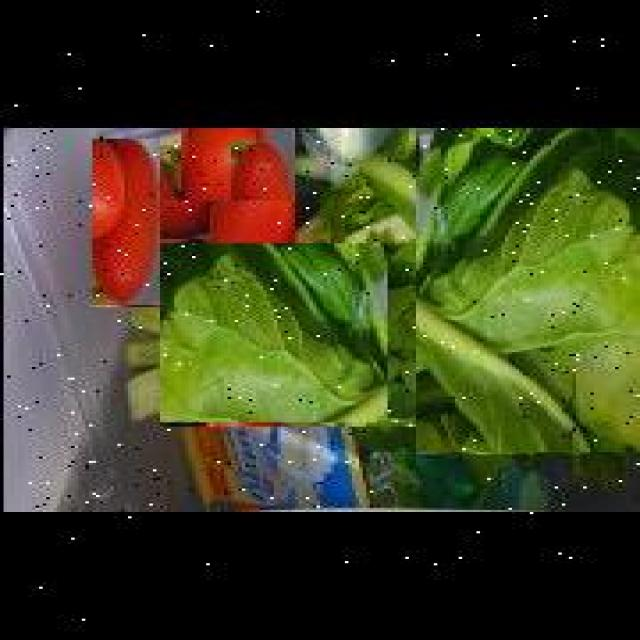cucumber: (92, 128, 292, 201)
pak_choi: (156, 244, 640, 423), (412, 128, 640, 452)
tomato: (199, 143, 292, 284), (89, 139, 156, 305), (125, 128, 206, 237)
